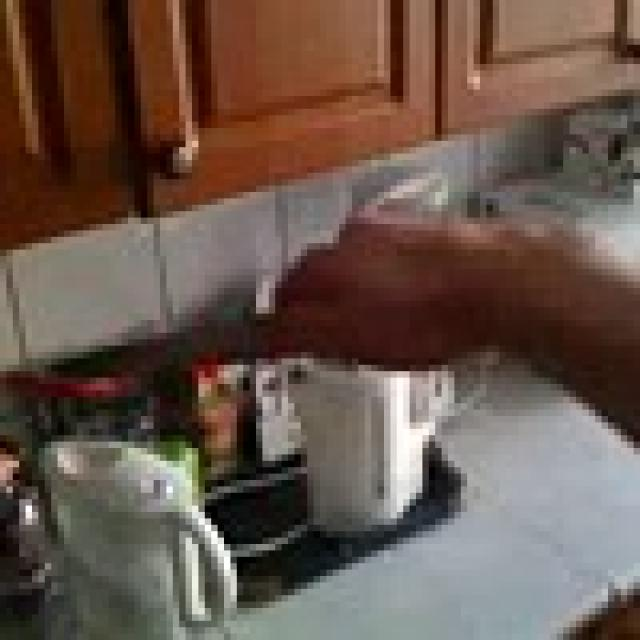weapon: (45, 288, 397, 403)
